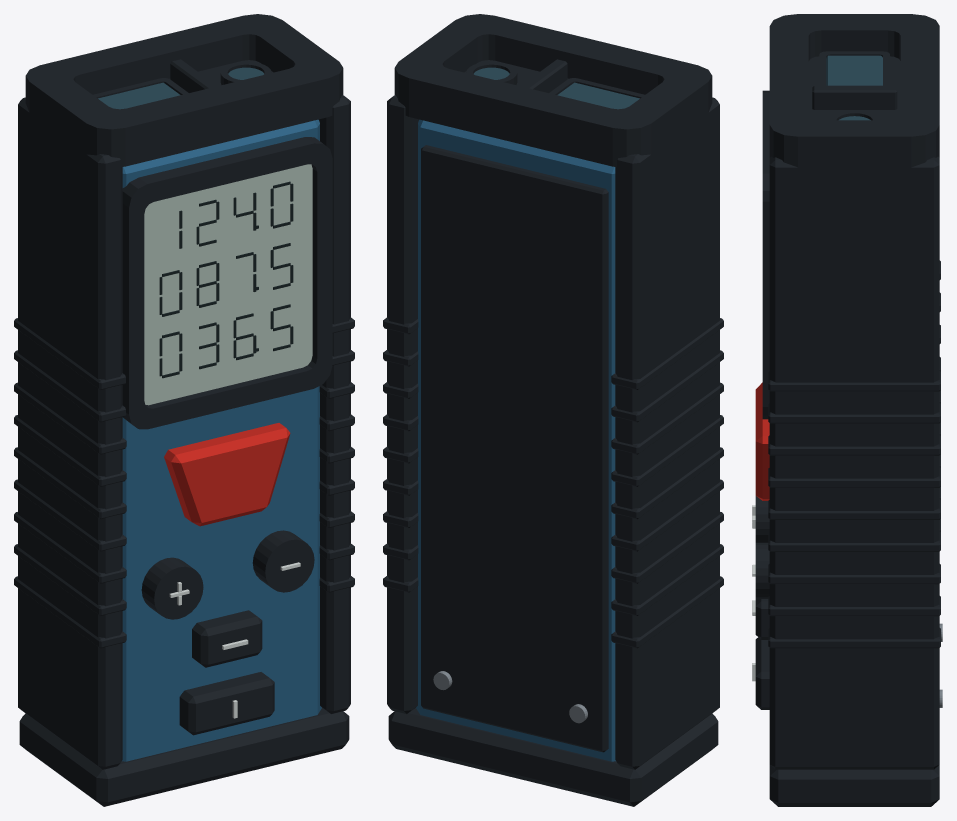
The model's file is full.glb.
3 views of the same model, side by side, from view 1: azimuth 30°, elevation 25°; view 2: azimuth 150°, elevation 25°; view 3: azimuth 270°, elevation 25° (orthographic).
Parts seen in each view (by area): view 1: Thick side bumper -0.0185, Closed blue main enclosure, Recessed LCD substrate, Upper optical bay open bumper, Front LCD open bezel, Thick side bumper 0.0185, Closed bottom cap, Large inverted trapezoid measure key, Lower clear power key, Central function key, Minus round key, Plus round key (+11 smaller); view 2: Generic rear finish, Thick side bumper -0.0185, Upper optical bay open bumper, Thick side bumper 0.0185, Closed bottom cap, Closed blue main enclosure, Receiving rectangular lens, Side grip rib (-0.0185, 0), Side grip rib (-0.0185, 4), Side grip rib (-0.0185, 6), Side grip rib (-0.0185, 7), Side grip rib (-0.0185, 3) (+5 smaller); view 3: Thick side bumper 0.0185, Upper optical bay open bumper, Closed bottom cap, Front LCD open bezel, Optical divider, Side grip rib (0.0185, 0), Side grip rib (0.0185, 8), Side grip rib (0.0185, 7), Side grip rib (0.0185, 6), Side grip rib (0.0185, 5), Receiving rectangular lens, Side grip rib (0.0185, 2) (+10 smaller).
Part boxes in pixels (x1,y1,x2,y2): Thick side bumper -0.0185: (18, 97, 122, 769); Closed blue main enclosure: (122, 119, 321, 761); Recessed LCD substrate: (144, 164, 312, 405); Upper optical bay open bumper: (25, 14, 343, 166); Front LCD open bezel: (122, 137, 332, 429); Thick side bumper 0.0185: (318, 95, 350, 713); Closed bottom cap: (19, 708, 349, 806); Large inverted trapezoid measure key: (164, 423, 290, 526); Lower clear power key: (179, 672, 274, 735); Central function key: (192, 610, 262, 667); Minus round key: (252, 530, 314, 592); Plus round key: (141, 557, 203, 619); Generic rear finish: (421, 145, 608, 752); Thick side bumper -0.0185: (615, 97, 719, 769); Upper optical bay open bumper: (394, 14, 712, 166); Thick side bumper 0.0185: (387, 95, 419, 713); Closed bottom cap: (388, 708, 718, 806); Closed blue main enclosure: (416, 119, 615, 761); Receiving rectangular lens: (557, 82, 639, 109); Side grip rib (-0.0185, 0): (611, 576, 723, 648); Side grip rib (-0.0185, 4): (611, 447, 723, 519); Side grip rib (-0.0185, 6): (611, 382, 723, 454); Side grip rib (-0.0185, 7): (611, 350, 723, 422); Side grip rib (-0.0185, 3): (611, 479, 723, 551); Thick side bumper 0.0185: (769, 156, 939, 769); Upper optical bay open bumper: (769, 14, 939, 175); Closed bottom cap: (769, 765, 939, 806); Front LCD open bezel: (762, 90, 769, 419); Optical divider: (812, 85, 897, 109); Side grip rib (0.0185, 0): (768, 628, 940, 648); Side grip rib (0.0185, 8): (768, 371, 940, 391); Side grip rib (0.0185, 7): (768, 403, 940, 423); Side grip rib (0.0185, 6): (768, 435, 940, 455); Side grip rib (0.0185, 5): (768, 467, 940, 487); Receiving rectangular lens: (826, 55, 882, 85); Side grip rib (0.0185, 2): (768, 564, 940, 584).
Bounding box in the file's own units: 0.0415 × 0.105 × 0.0269.
